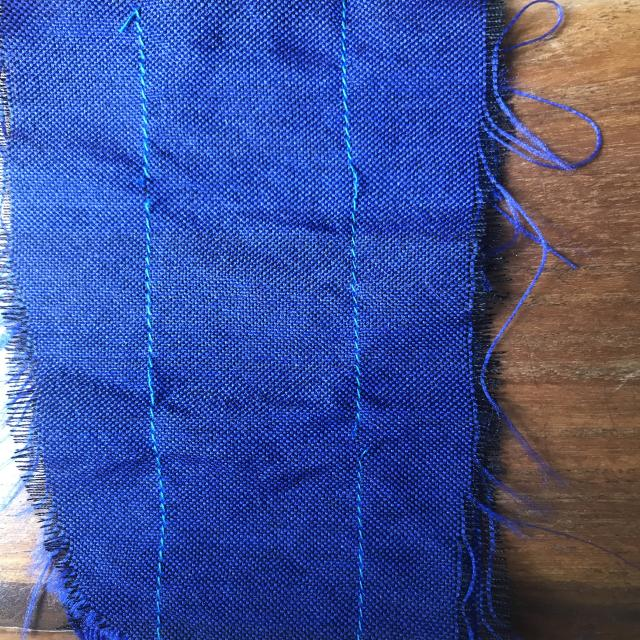skip: (318, 136, 382, 220)
